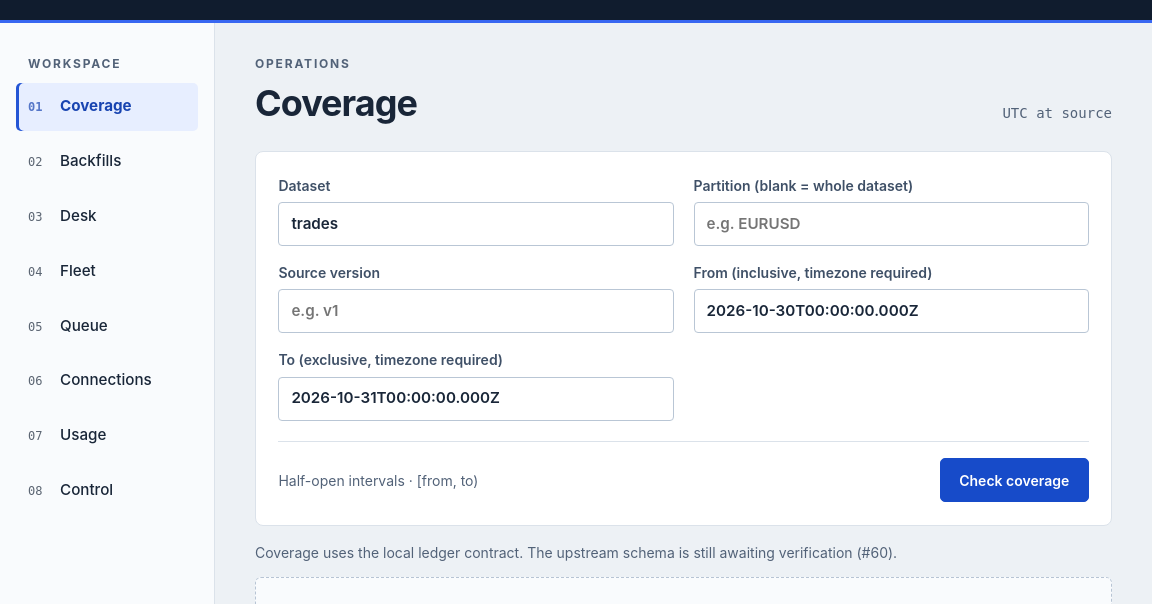
Scenario: says saved only when the override is what the process reads
This screenshot has width=1152, height=604.
Click the button "08 Control".
click(107, 490)  # box [16,466,198,514]
(page scrolled)
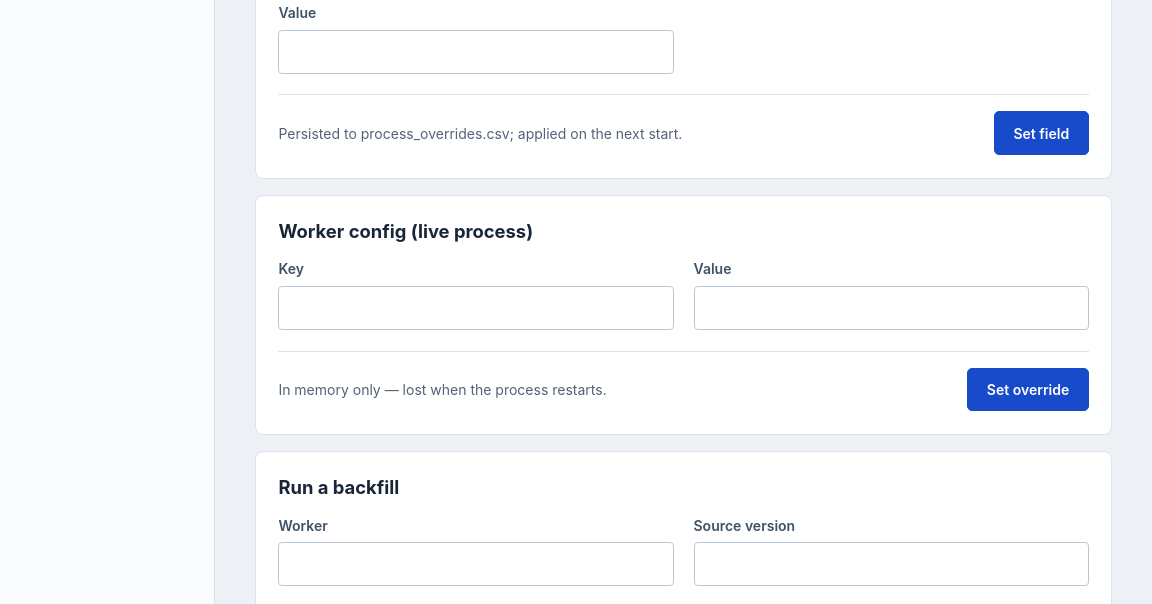
Type "dry_run" into the field labelled "Key".
click(476, 308); type("dry_run")  # box [278,286,674,330]
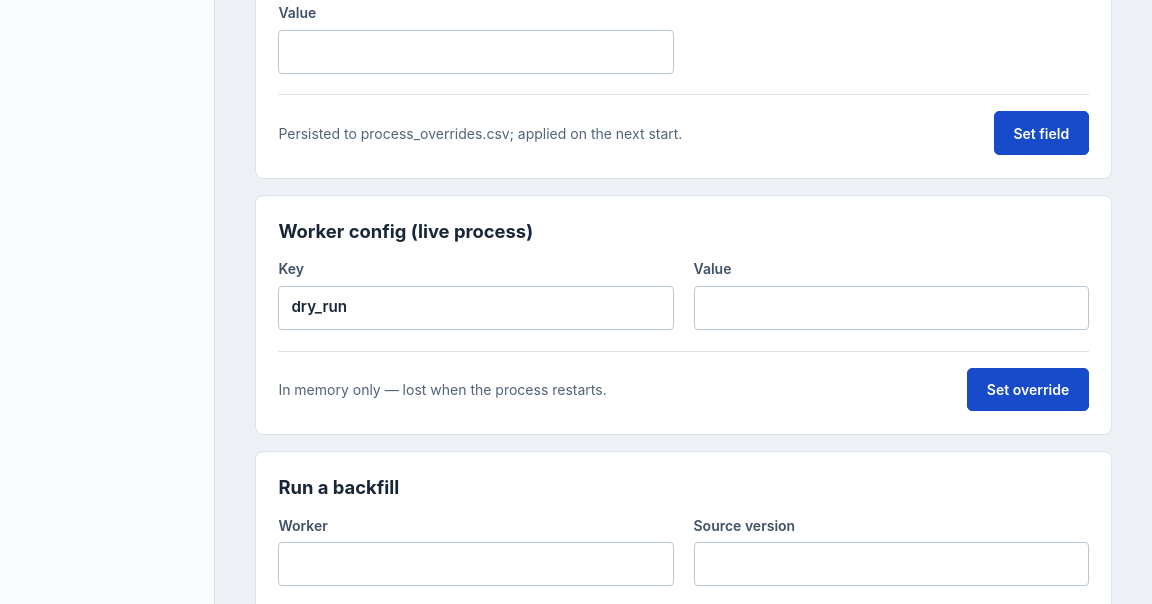
Click the button "Set override".
click(1028, 390)  # box [968,368,1089,411]
(page scrolled)
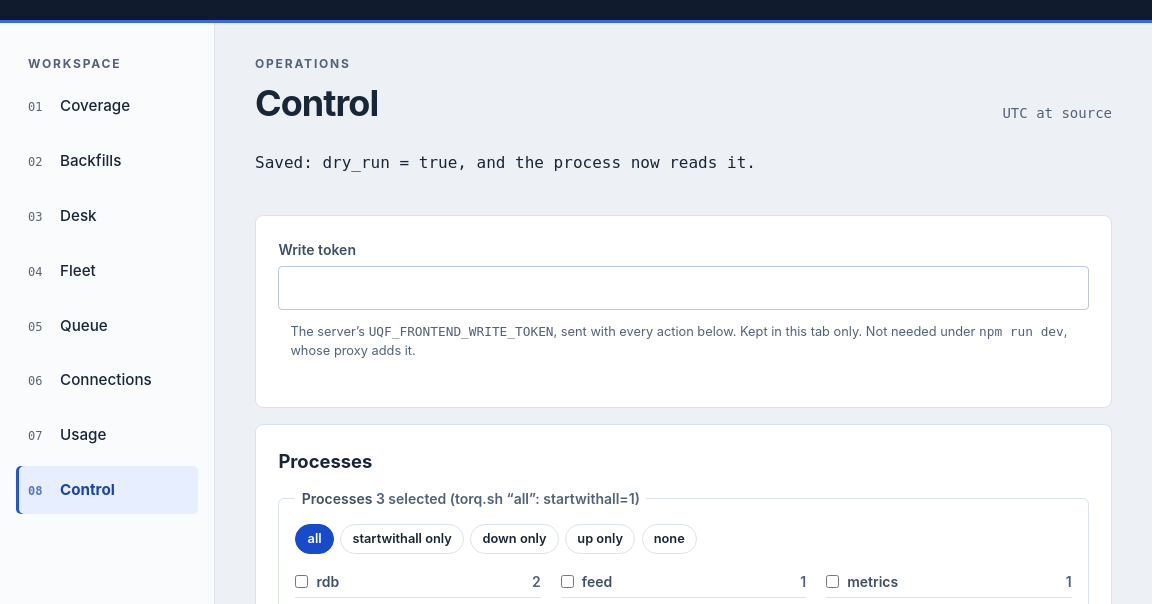
Expected: the text "Saved: dry_run = true, and the process now reads it." is shown, [255,153,756,172]
